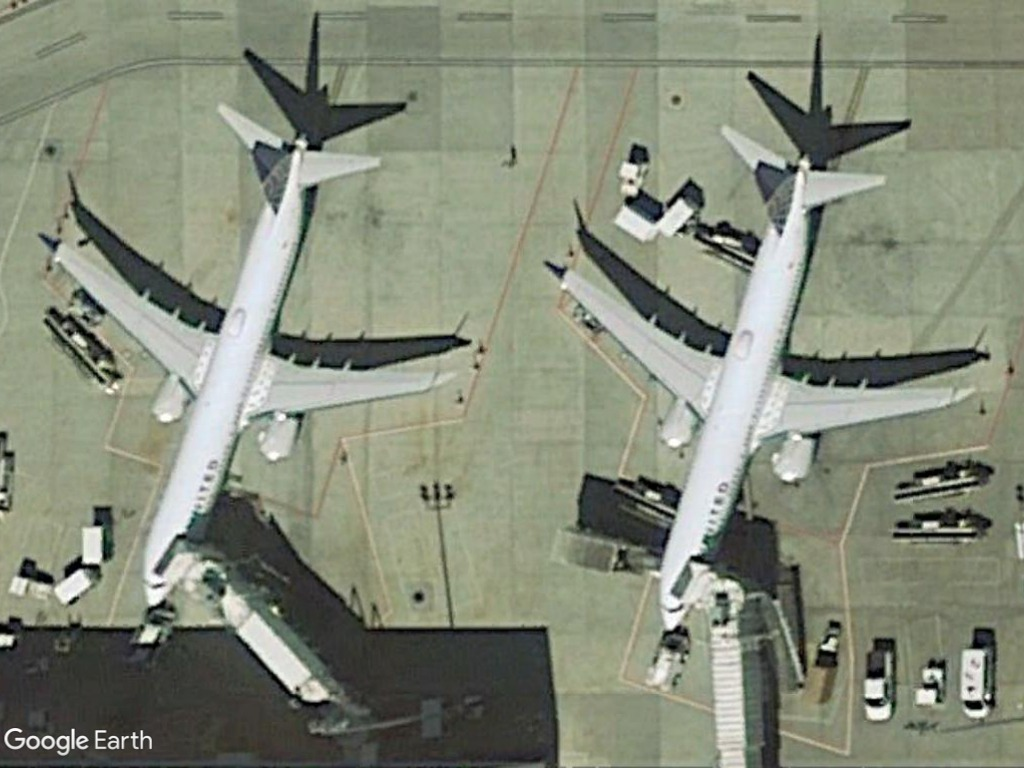airliner: (538, 118, 965, 645), (45, 98, 463, 618)
other: (856, 647, 903, 726)
van: (953, 642, 996, 723)
